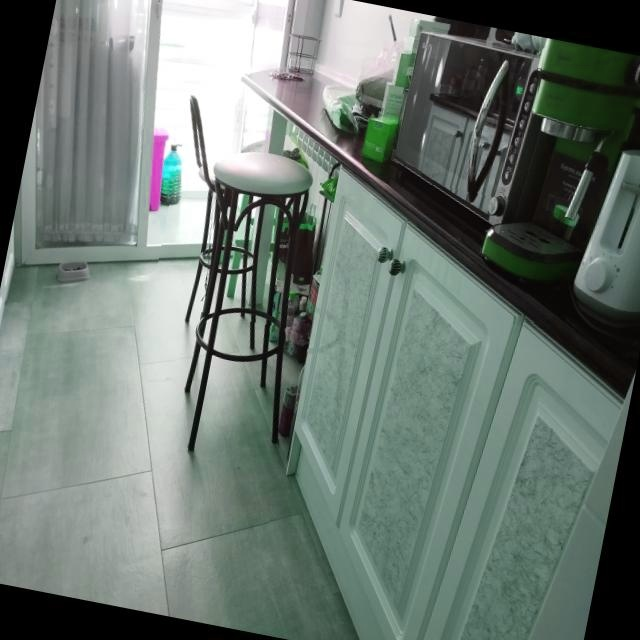cabinet: (294, 168, 517, 640), (424, 322, 620, 640)
chair: (185, 154, 313, 455), (186, 96, 222, 324)
countertop: (243, 71, 639, 395)
microwave: (392, 33, 540, 227)
